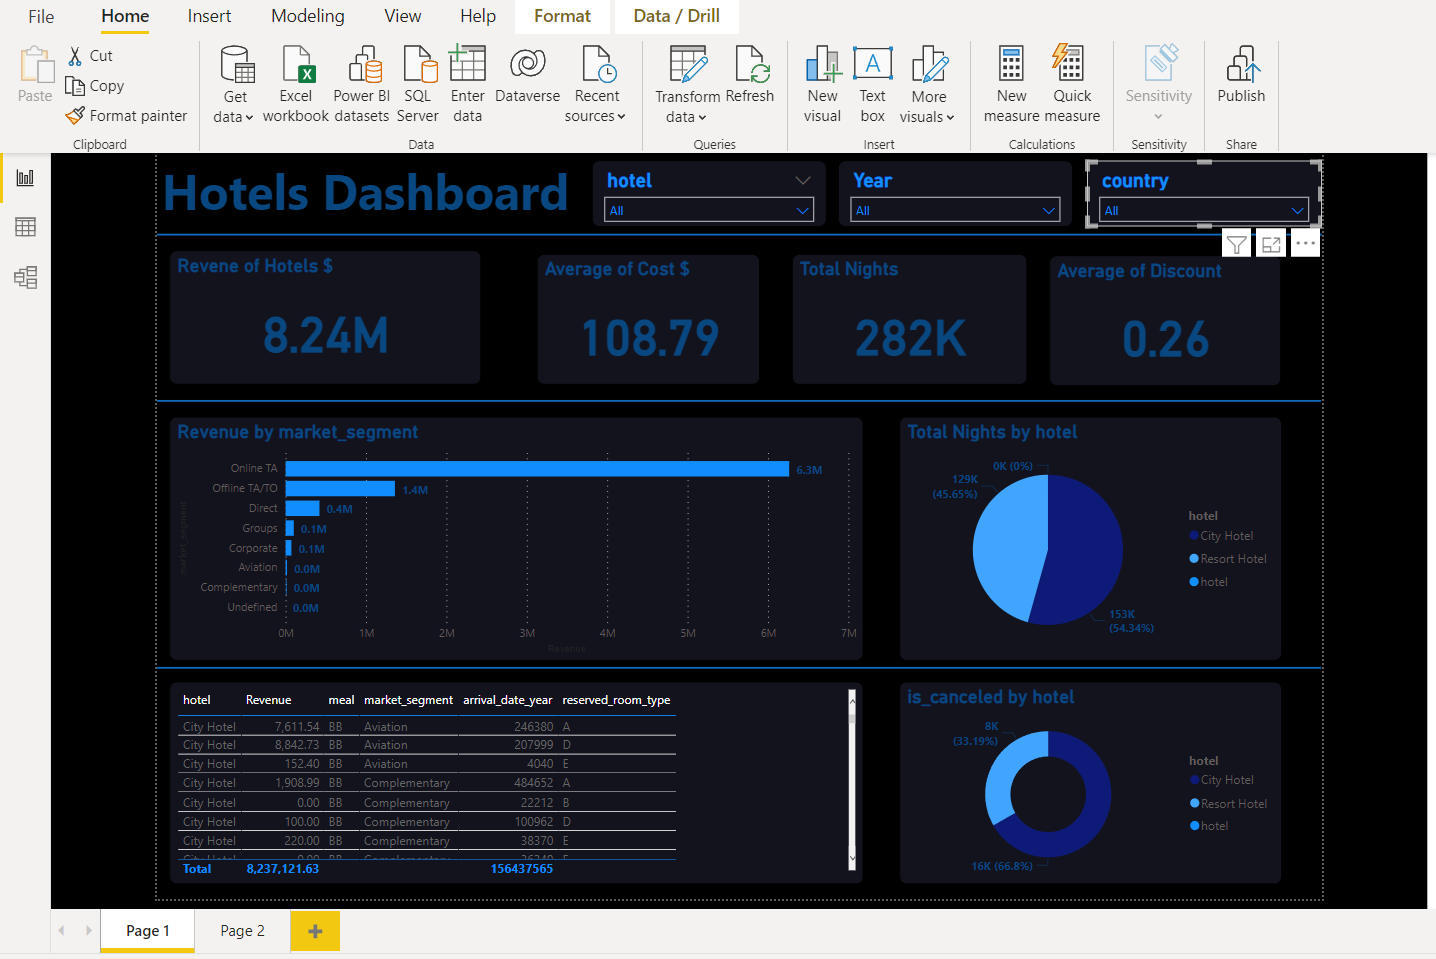

The dashboard page shown, as its layout file describes it:
{"tool":"powerbi","page":{"name":"Page 1","canvas":[1280,820],"ordinal":0},"visuals":[{"type":"shape","box":[0,255.7,1279.6,33.8],"z":0},{"type":"shape","box":[0,548.7,1279.6,32.6],"z":1000},{"type":"card","title":"Revene of Hotels $","fields":{"Values":["Sum(all table.Revenue)"]},"box":[13.3,107.3,342.5,147.1],"z":2000},{"type":"shape","box":[0,73.1,1280,33.8],"z":3000},{"type":"textbox","box":[0,0,1280,90],"z":4000},{"type":"card","title":"Average of Cost $","fields":{"Values":["Avg(all table.adr)"]},"box":[417.3,111,244.8,143.5],"z":5000},{"type":"card","title":"Total Nights","fields":{"Values":["all table.Total Nights"]},"box":[697.1,111,258.1,143.5],"z":6000},{"type":"card","title":"Average of Discount","fields":{"Values":["Avg(all table.City Hotel)"]},"box":[980.5,112.2,254.5,143.5],"z":7000},{"type":"slicer","fields":{"Values":["all table.country"]},"box":[1022,8.6,258,72.7],"z":8000},{"type":"slicer","fields":{"Values":["all table.arrival_date_year"]},"box":[748.3,8.6,258,72.7],"z":9000},{"type":"slicer","fields":{"Values":["all table.hotel"]},"box":[477.5,8.6,258,72.7],"z":10000},{"type":"barChart","fields":{"Y":["Sum(all table.Revenue)"],"Category":["all table.market_segment"]},"box":[13.3,289.4,762.2,267.7],"z":11000},{"type":"pieChart","fields":{"Category":["all table.hotel"],"Y":["all table.Total Nights"]},"box":[815.3,289.4,419.7,267.7],"z":12000},{"type":"tableEx","fields":{"Values":["all table.hotel","Sum(all table.Revenue)","all table.meal","all table.market_segment","Sum(all table.arrival_date_year)","all table.reserved_room_type"]},"box":[13.7,581,762.3,222.5],"z":13000},{"type":"donutChart","fields":{"Category":["all table.hotel"],"Y":["Sum(all table.is_canceled)"]},"box":[815.9,581,420.3,222.5],"z":14000}]}

Visuals, with their boxes on the page's 1280x820 design canvas (x1, y1, x2, y2). These are canvas units, not pixel positions in the 1436x959 screenshot, which may show the page scaled, cropped or inside an application window:
shape: crop(0, 256, 1280, 290)
shape: crop(0, 549, 1280, 581)
"Revene of Hotels $" card: crop(13, 107, 356, 254)
shape: crop(0, 73, 1280, 107)
textbox: crop(0, 0, 1280, 90)
"Average of Cost $" card: crop(417, 111, 662, 254)
"Total Nights" card: crop(697, 111, 955, 254)
"Average of Discount" card: crop(980, 112, 1235, 256)
slicer - all table.country: crop(1022, 9, 1280, 81)
slicer - all table.arrival_date_year: crop(748, 9, 1006, 81)
slicer - all table.hotel: crop(478, 9, 736, 81)
barChart - Sum(all table.Revenue) x all table.market_segment: crop(13, 289, 776, 557)
pieChart - all table.hotel x all table.Total Nights: crop(815, 289, 1235, 557)
tableEx - all table.hotel x Sum(all table.Revenue): crop(14, 581, 776, 804)
donutChart - all table.hotel x Sum(all table.is_canceled): crop(816, 581, 1236, 804)
